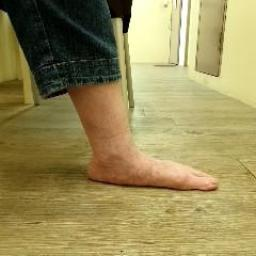Medial View -Left Foot-: (65, 113, 229, 209)
